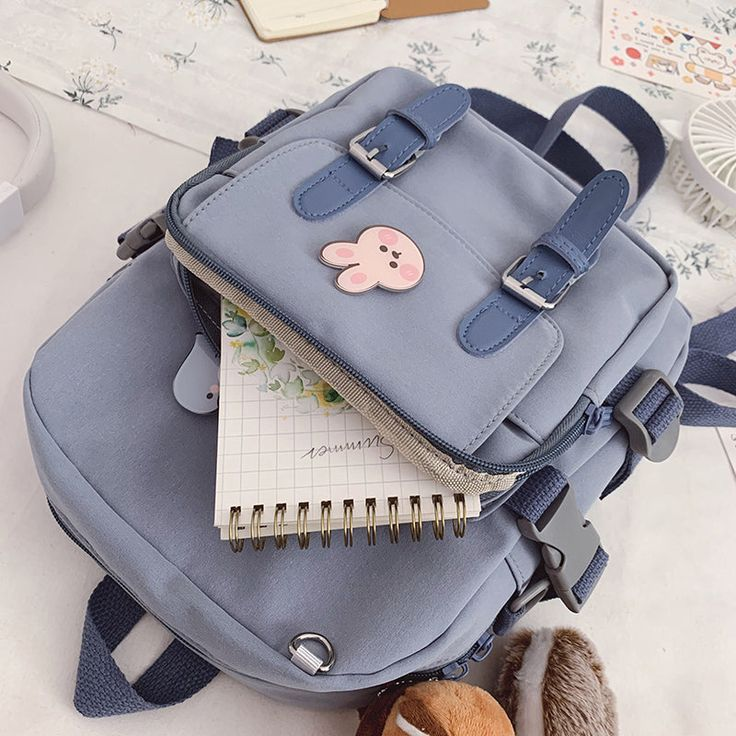nylon: (23, 66, 694, 695)
